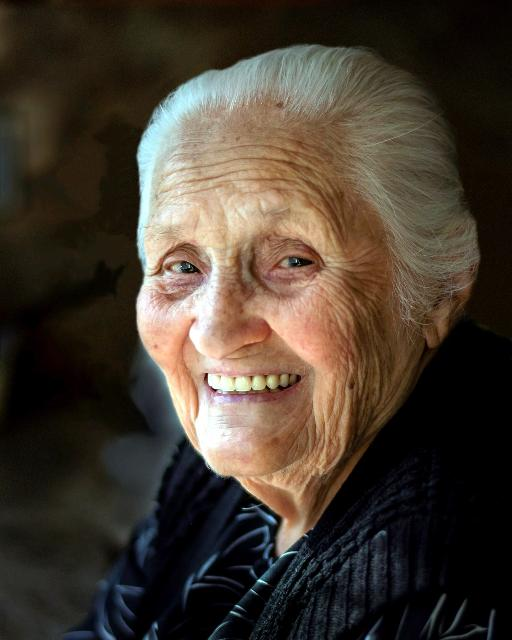chin: (290, 412, 316, 456)
crows_feet: (319, 258, 357, 298)
forehead: (231, 158, 337, 202), (161, 160, 215, 200), (321, 210, 351, 248)
frown_line: (217, 248, 239, 282)
gummy_smile: (264, 322, 308, 366), (174, 328, 200, 380)
masseter: (328, 386, 368, 458), (338, 309, 380, 376)
